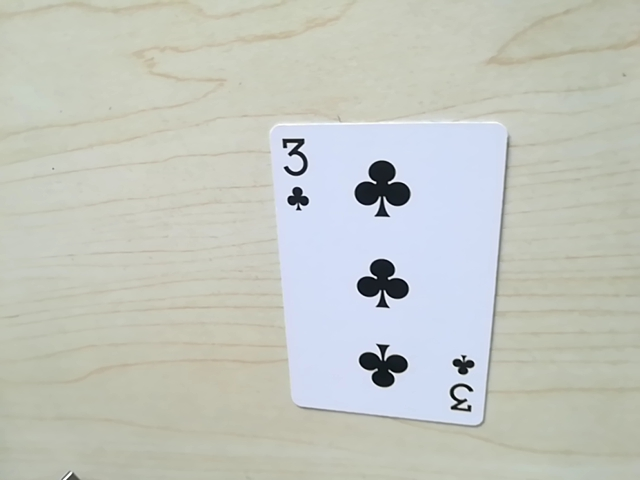mh 3: (274, 129, 318, 218), (443, 354, 481, 423)
